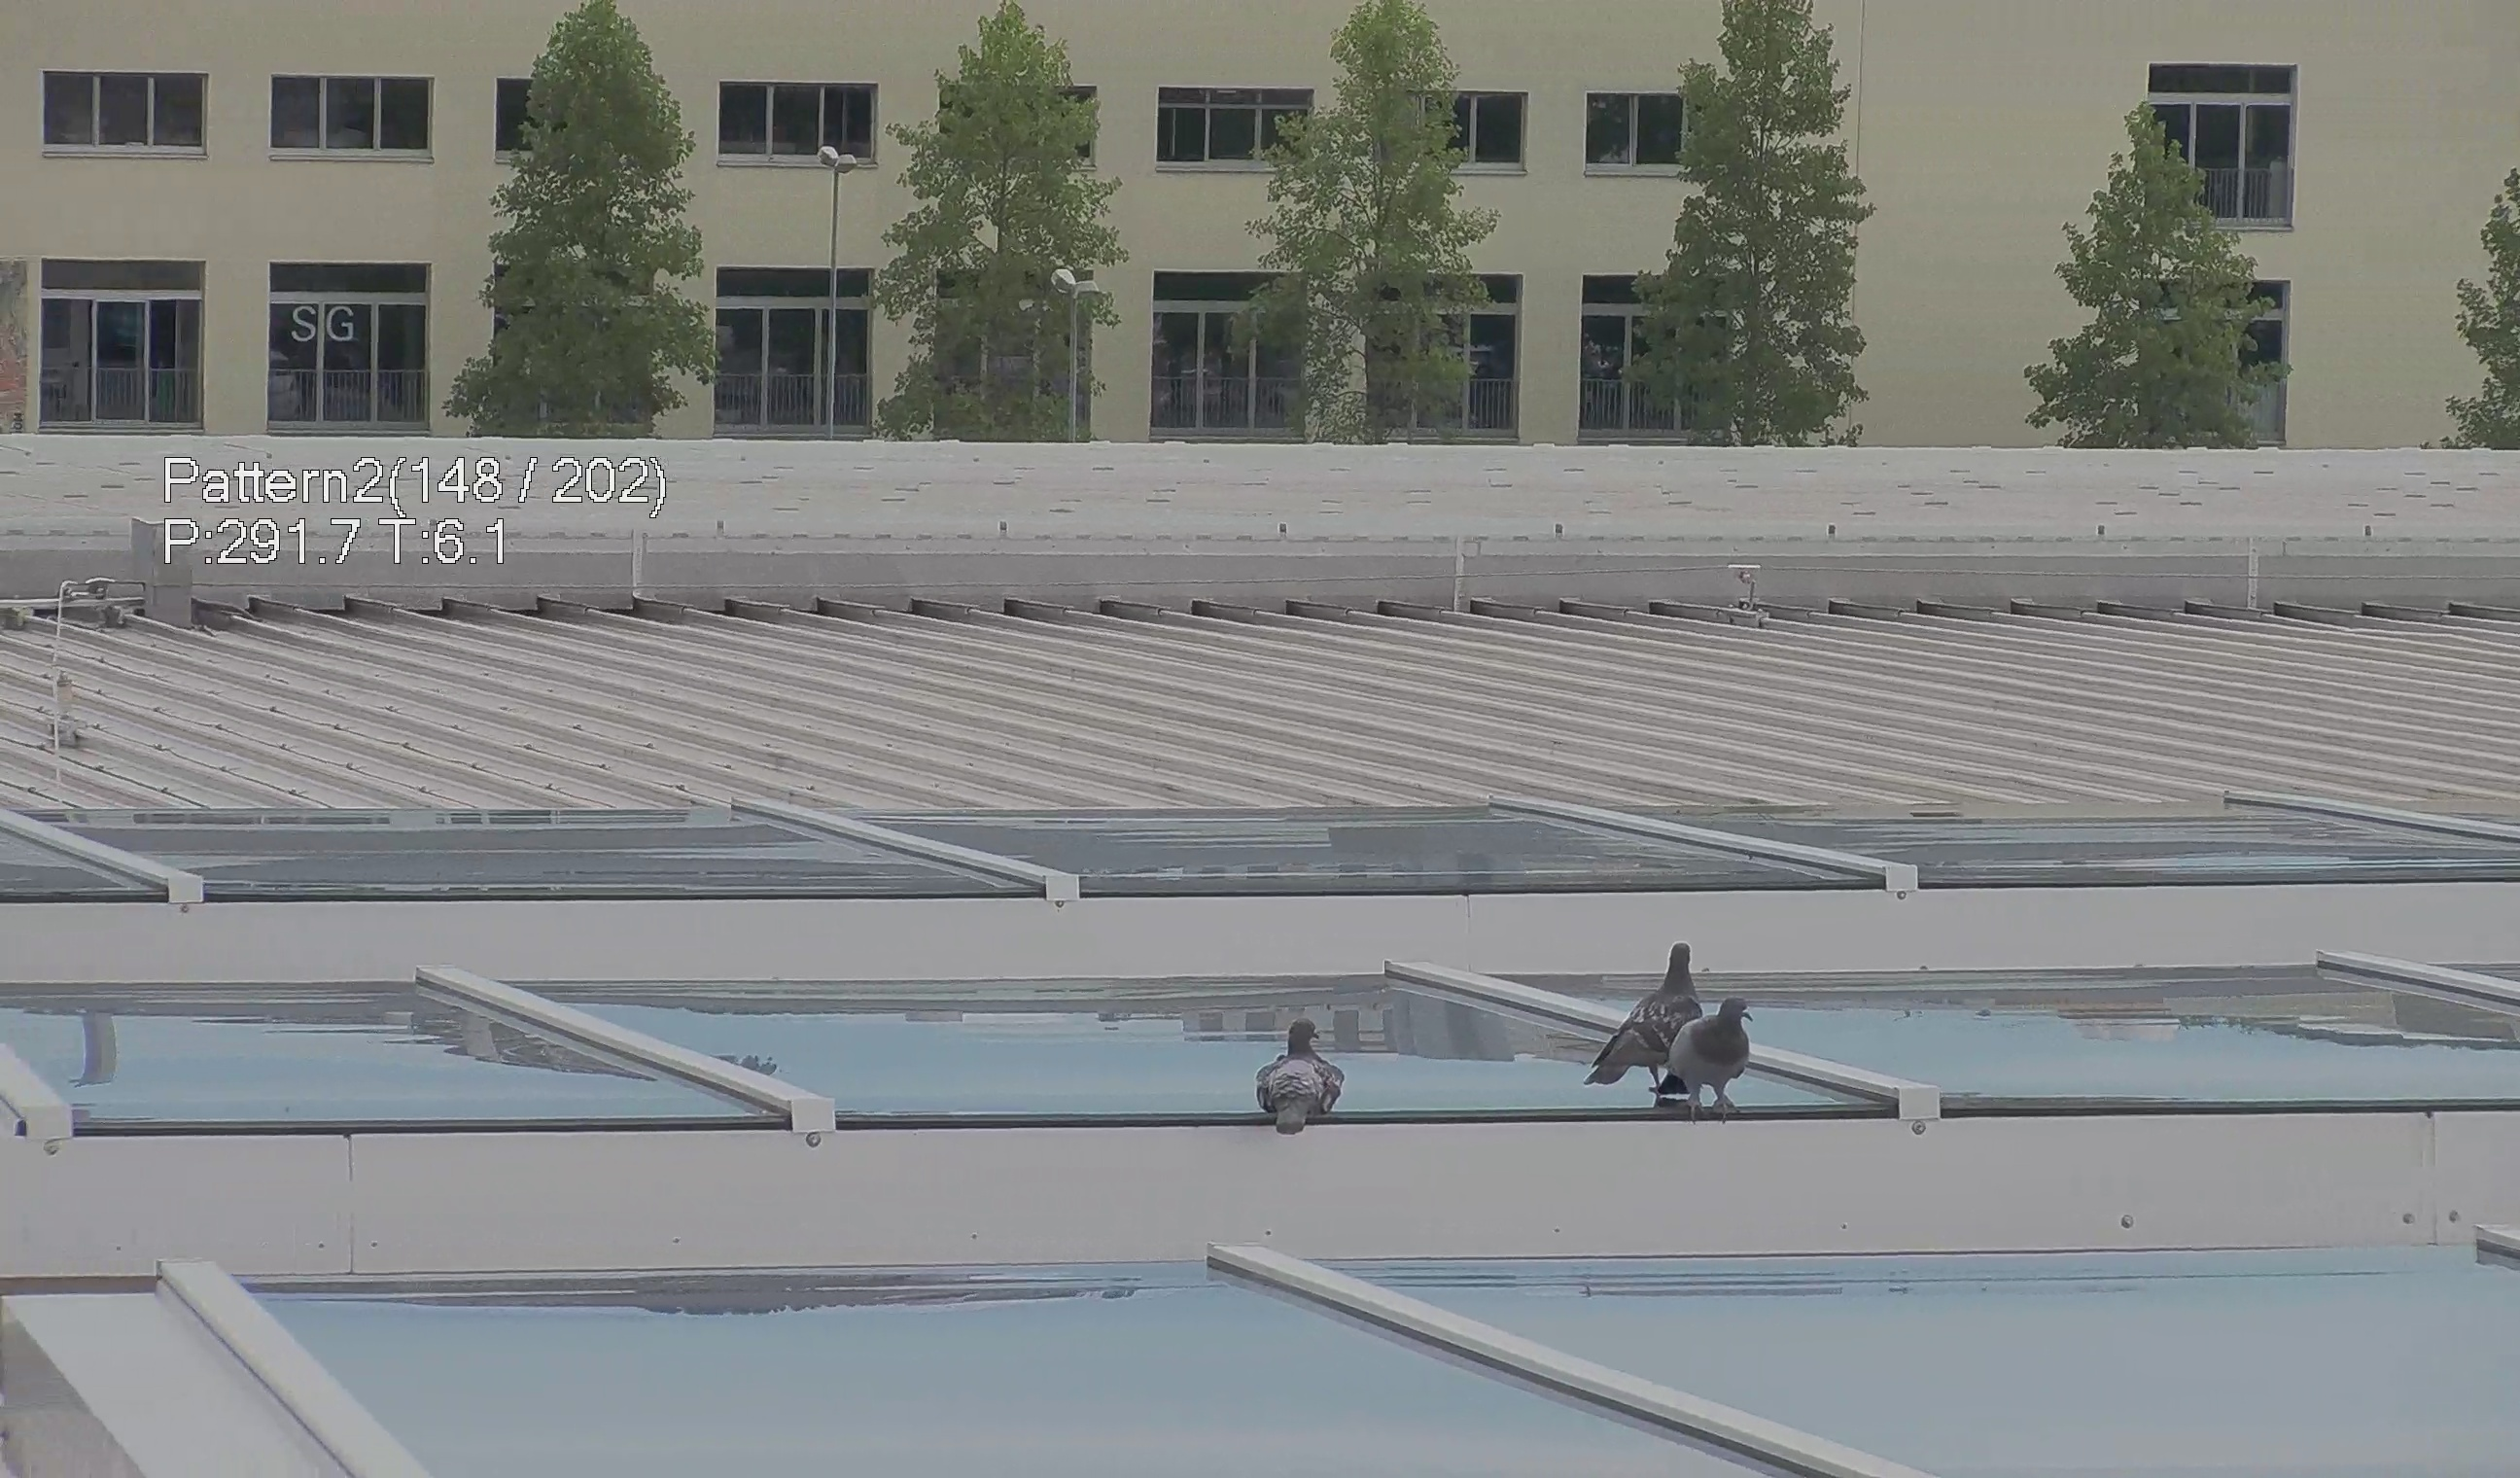Pigeon: (1590, 938, 1708, 1103), (1662, 985, 1780, 1117), (1245, 1005, 1347, 1149)
